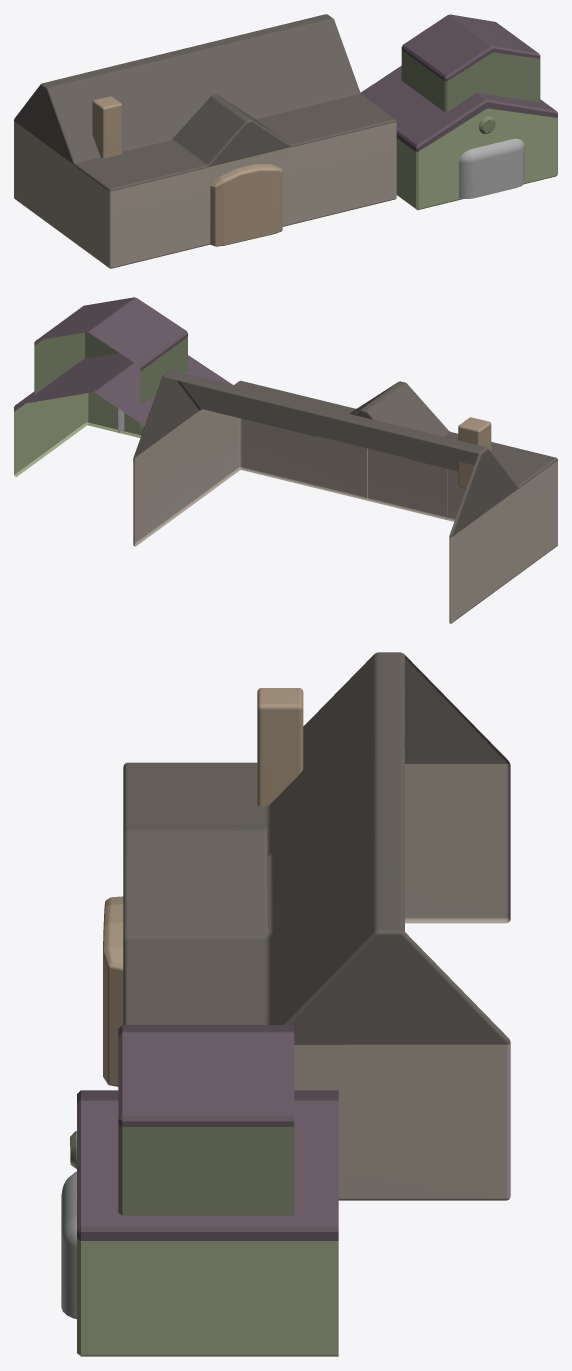
File: home1.fbx
3 renders of one model, top to bottom at view 1: azimuth 30°, elevation 25°; view 2: azimuth 150°, elevation 25°; view 3: azimuth 270°, elevation 25°, orthographic. The views are drawn at different scales.
Parts seen in each view (by area): view 1: polySurface3605; view 2: polySurface3605; view 3: polySurface3605.
Boxes of the visible parts, x1,y1,x2,y2 form: polySurface3605: (14,14,557,268); polySurface3605: (14,297,557,623); polySurface3605: (61,652,510,1356).
Bounding box in the file's own units: 184 × 56.29 × 81.65.
